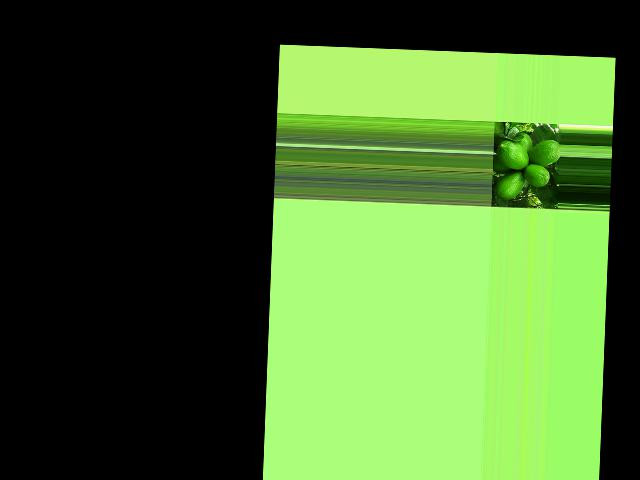lemon: (495, 167, 526, 201)
